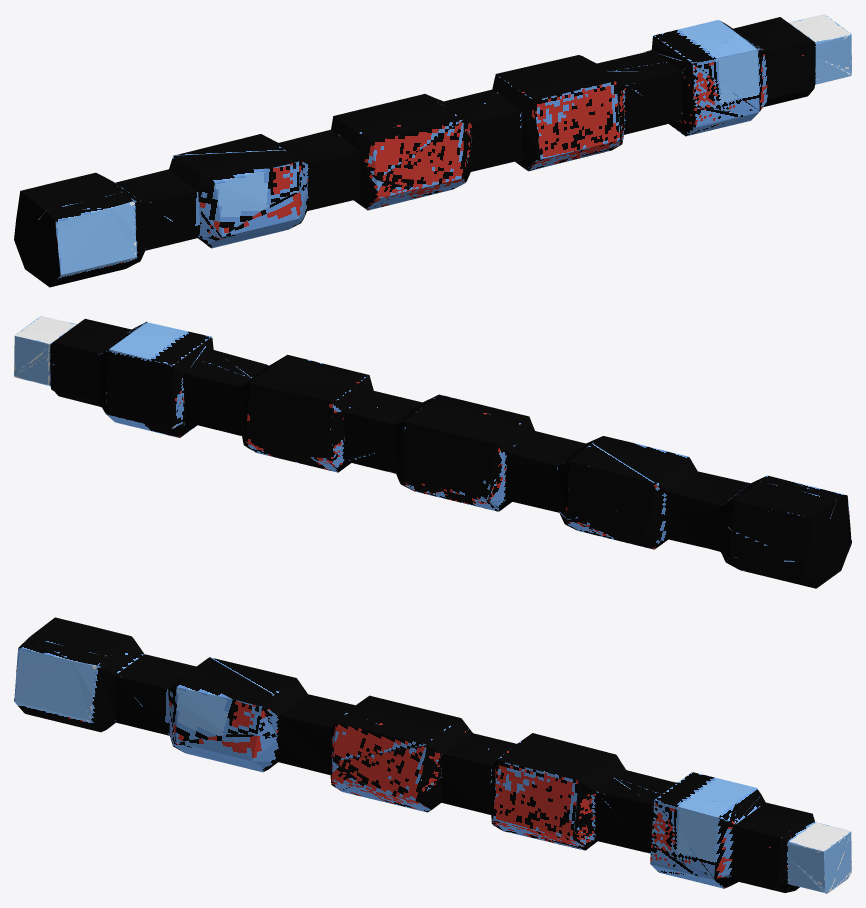
3 views of the same model, one above another, from view 1: azimuth 30°, elevation 25°; view 2: azimuth 150°, elevation 25°; view 3: azimuth 330°, elevation 25° (orthographic).
Visible parts, largest first — view 1: OBJ09b; view 2: OBJ09b; view 3: OBJ09b.
Boxes of the visible parts, left/top/right/bottom form: OBJ09b: left=14, top=14, right=851, bottom=287; OBJ09b: left=14, top=316, right=851, bottom=588; OBJ09b: left=14, top=617, right=851, bottom=893.
Bounding box in the file's own units: 0.3421 × 0.032 × 0.0349.
1 material, 1 textured.
